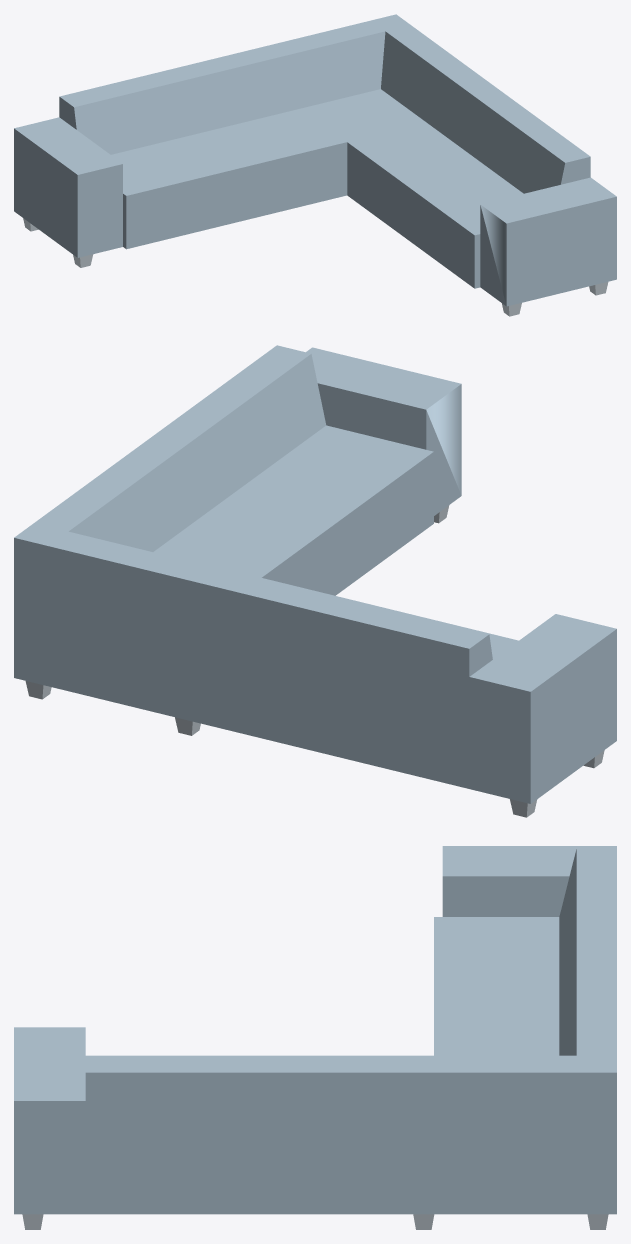
File: loungeDesignSofaCorner.glb
3 renders of one model, top to bottom at view 1: azimuth 30°, elevation 25°; view 2: azimuth 150°, elevation 25°; view 3: azimuth 270°, elevation 25°, orthographic. The views are drawn at different scales.
Visible parts, largest first — view 1: loungeDesignSofaCorner(Clone); view 2: loungeDesignSofaCorner(Clone); view 3: loungeDesignSofaCorner(Clone).
Part boxes in pixels (x1,y1,x2,y2): loungeDesignSofaCorner(Clone): (14, 14, 616, 316); loungeDesignSofaCorner(Clone): (14, 345, 616, 817); loungeDesignSofaCorner(Clone): (14, 846, 616, 1229).
Bounding box in the file's own units: 1.35 × 0.4 × 1.35.
